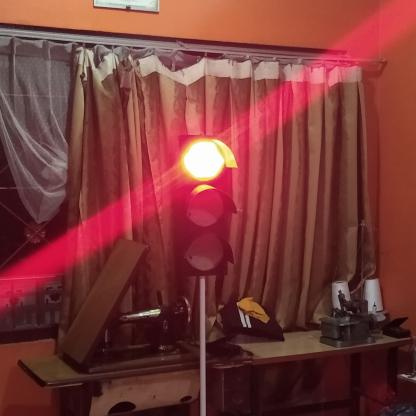red: (179, 135, 234, 276)
